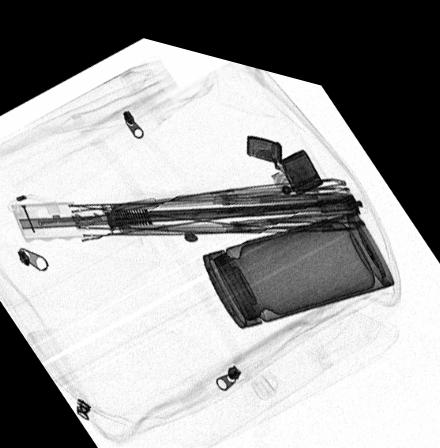Lighter: (244, 121, 322, 179)
